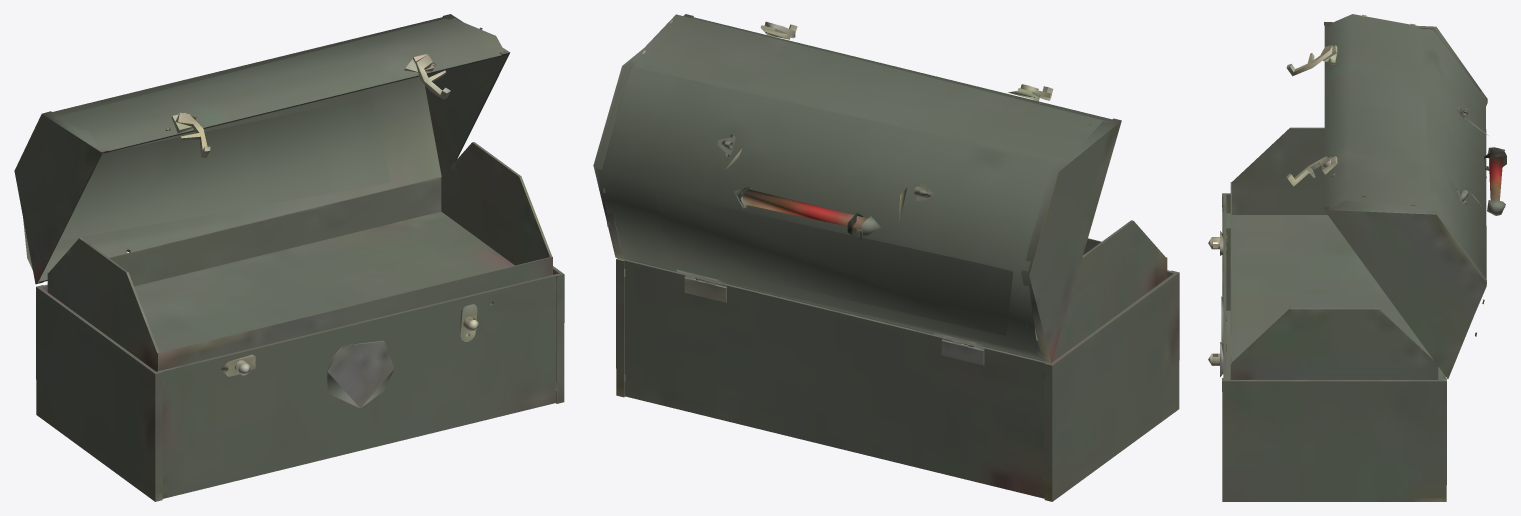
File: toolbox_lo.glb
The picture shows the model from 3 angles, left to right: view 1: azimuth 30°, elevation 25°; view 2: azimuth 150°, elevation 25°; view 3: azimuth 270°, elevation 25°; orthographic projection. The views are drawn at different scales.
Visible parts, largest first — view 1: Cylinder.015, metal_toolbox, metal_toolbox_tray, metal_toolbox_handle_latch_r, metal_toolbox_handle_latch_l; view 2: Cylinder.015, metal_toolbox, metal_toolbox_tray, metal_toolbox_handle; view 3: Cylinder.015, metal_toolbox_tray, metal_toolbox, metal_toolbox_handle, metal_toolbox_handle_latch_l, metal_toolbox_handle_latch_r.
Boxes of the visible parts, bbox=[...] form: Cylinder.015: bbox=[14, 14, 510, 284]; metal_toolbox: bbox=[36, 266, 564, 501]; metal_toolbox_tray: bbox=[47, 142, 552, 371]; metal_toolbox_handle_latch_r: bbox=[415, 54, 450, 99]; metal_toolbox_handle_latch_l: bbox=[175, 112, 210, 157]; Cylinder.015: bbox=[593, 14, 1121, 363]; metal_toolbox: bbox=[616, 258, 1179, 501]; metal_toolbox_tray: bbox=[628, 220, 1167, 361]; metal_toolbox_handle: bbox=[725, 149, 907, 241]; Cylinder.015: bbox=[1322, 14, 1487, 378]; metal_toolbox_tray: bbox=[1230, 127, 1438, 379]; metal_toolbox: bbox=[1208, 193, 1446, 501]; metal_toolbox_handle: bbox=[1465, 117, 1506, 215]; metal_toolbox_handle_latch_l: bbox=[1286, 45, 1332, 76]; metal_toolbox_handle_latch_r: bbox=[1286, 156, 1331, 186].
Bounding box in the file's own units: 0.4 × 0.3047 × 0.2688.
1 material, 1 textured.
